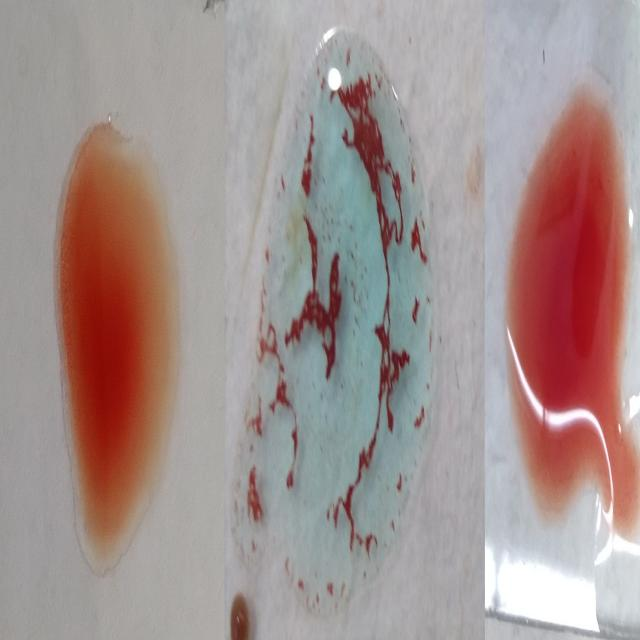A: (244, 41, 425, 622)
